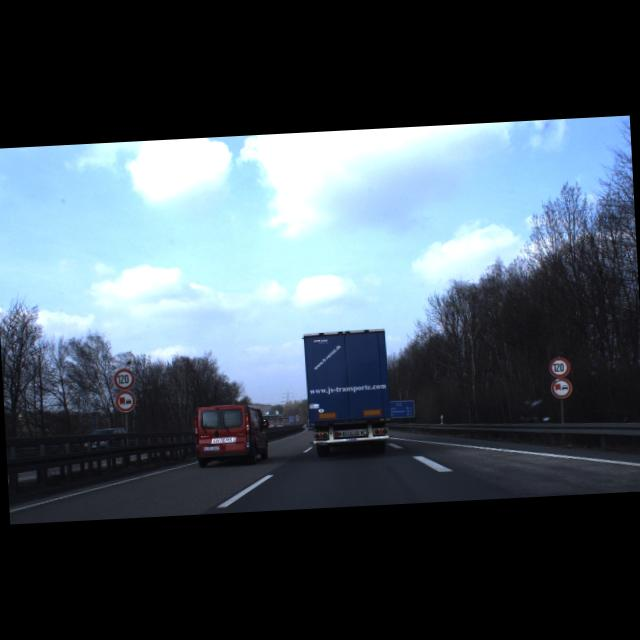prohibitory: (112, 368, 136, 391), (114, 390, 136, 413), (548, 356, 570, 378), (550, 378, 572, 399)
